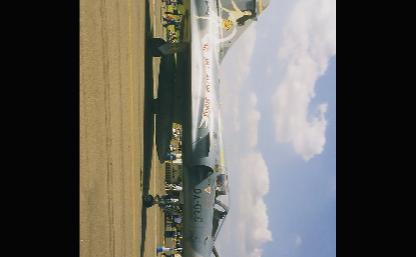Mirage2000: (141, 0, 271, 256)
